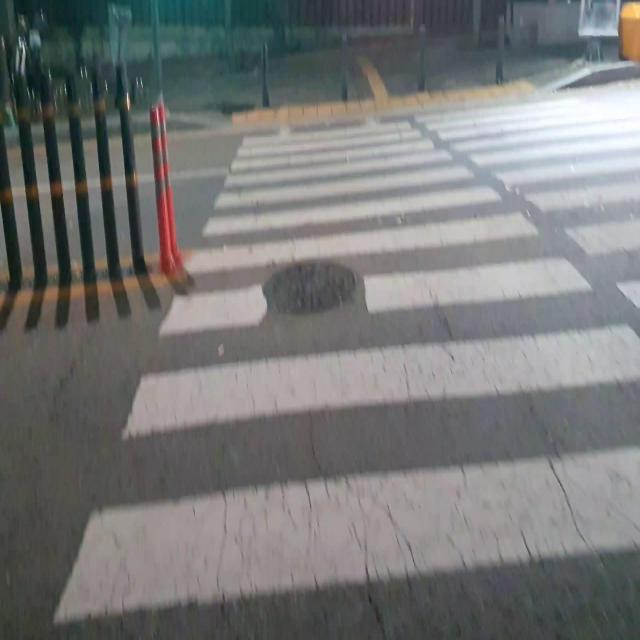crosswalk: (44, 94, 640, 640)
